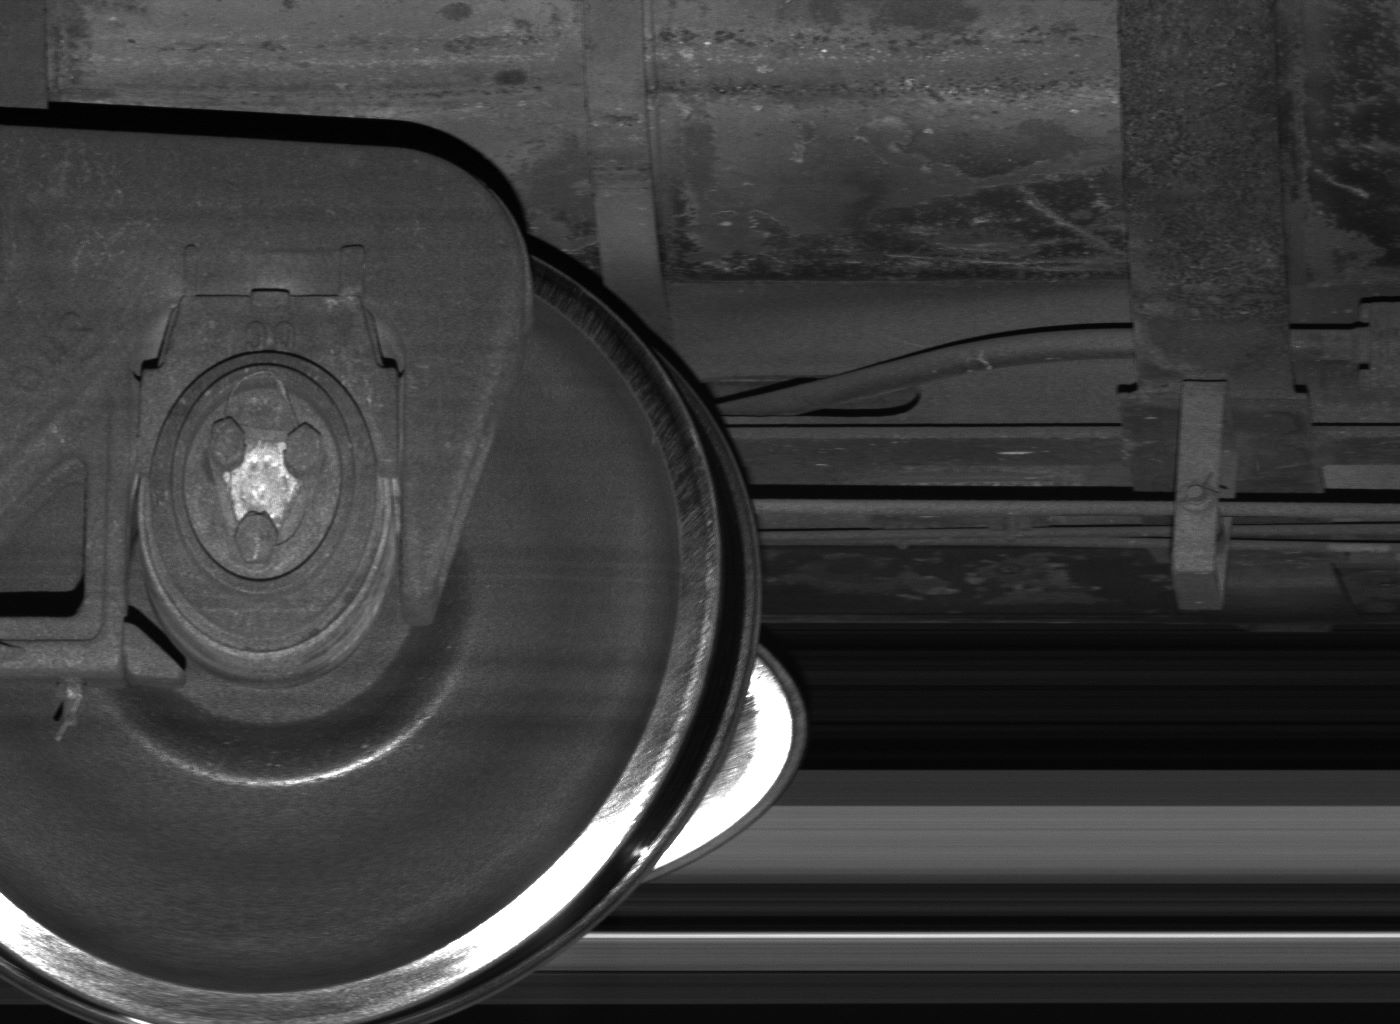normal: (1172, 379, 1237, 612)
